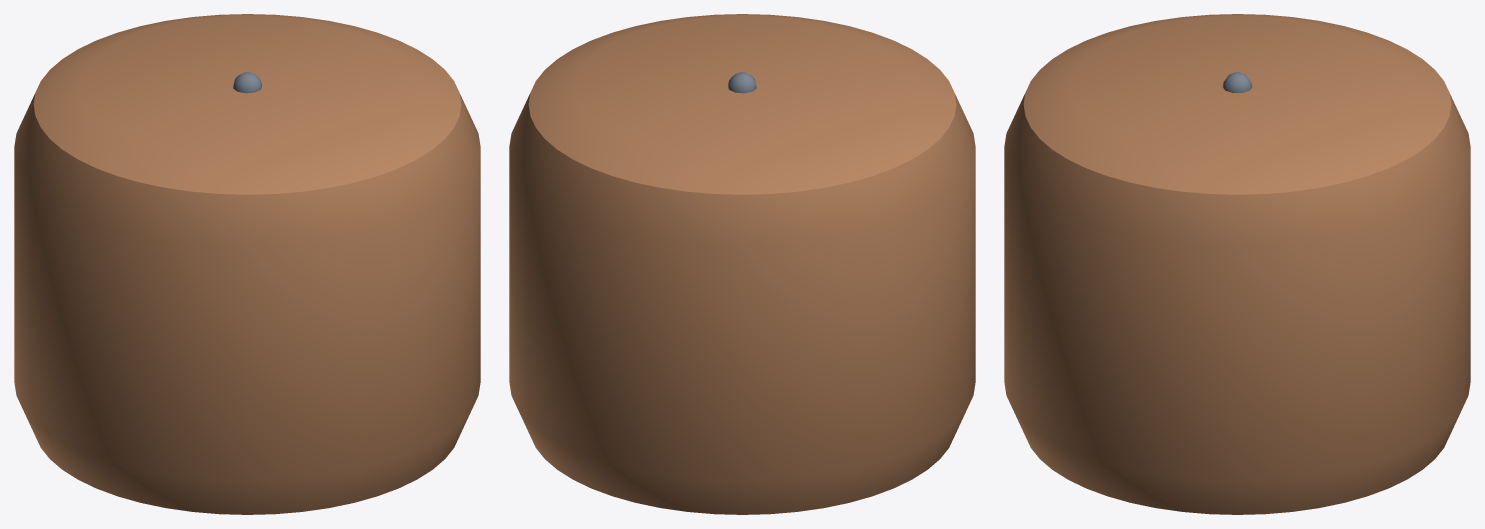
File: pouf.glb
The picture shows the model from 3 angles, left to right: view 1: azimuth 30°, elevation 25°; view 2: azimuth 150°, elevation 25°; view 3: azimuth 270°, elevation 25°; orthographic projection.
Visible parts, largest first — view 1: cyl; view 2: cyl; view 3: cyl.
Boxes of the visible parts, x1,y1,x2,y2 form: cyl: (14, 14, 480, 514); cyl: (509, 14, 975, 514); cyl: (1004, 14, 1470, 514).
Bounding box in the file's own units: 50 × 43.6 × 50.
